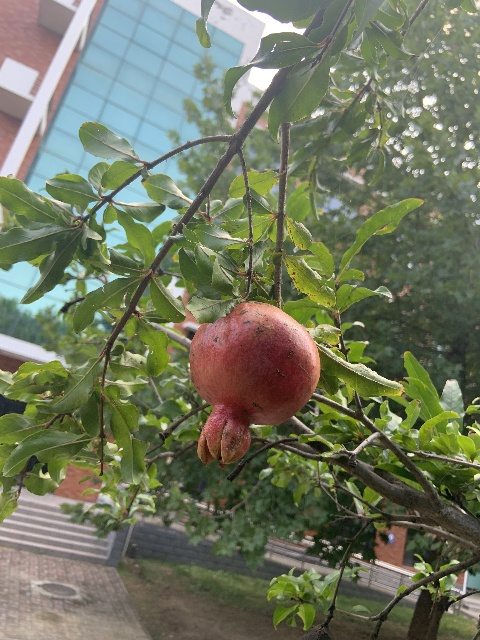ripe: (189, 302, 320, 466)
